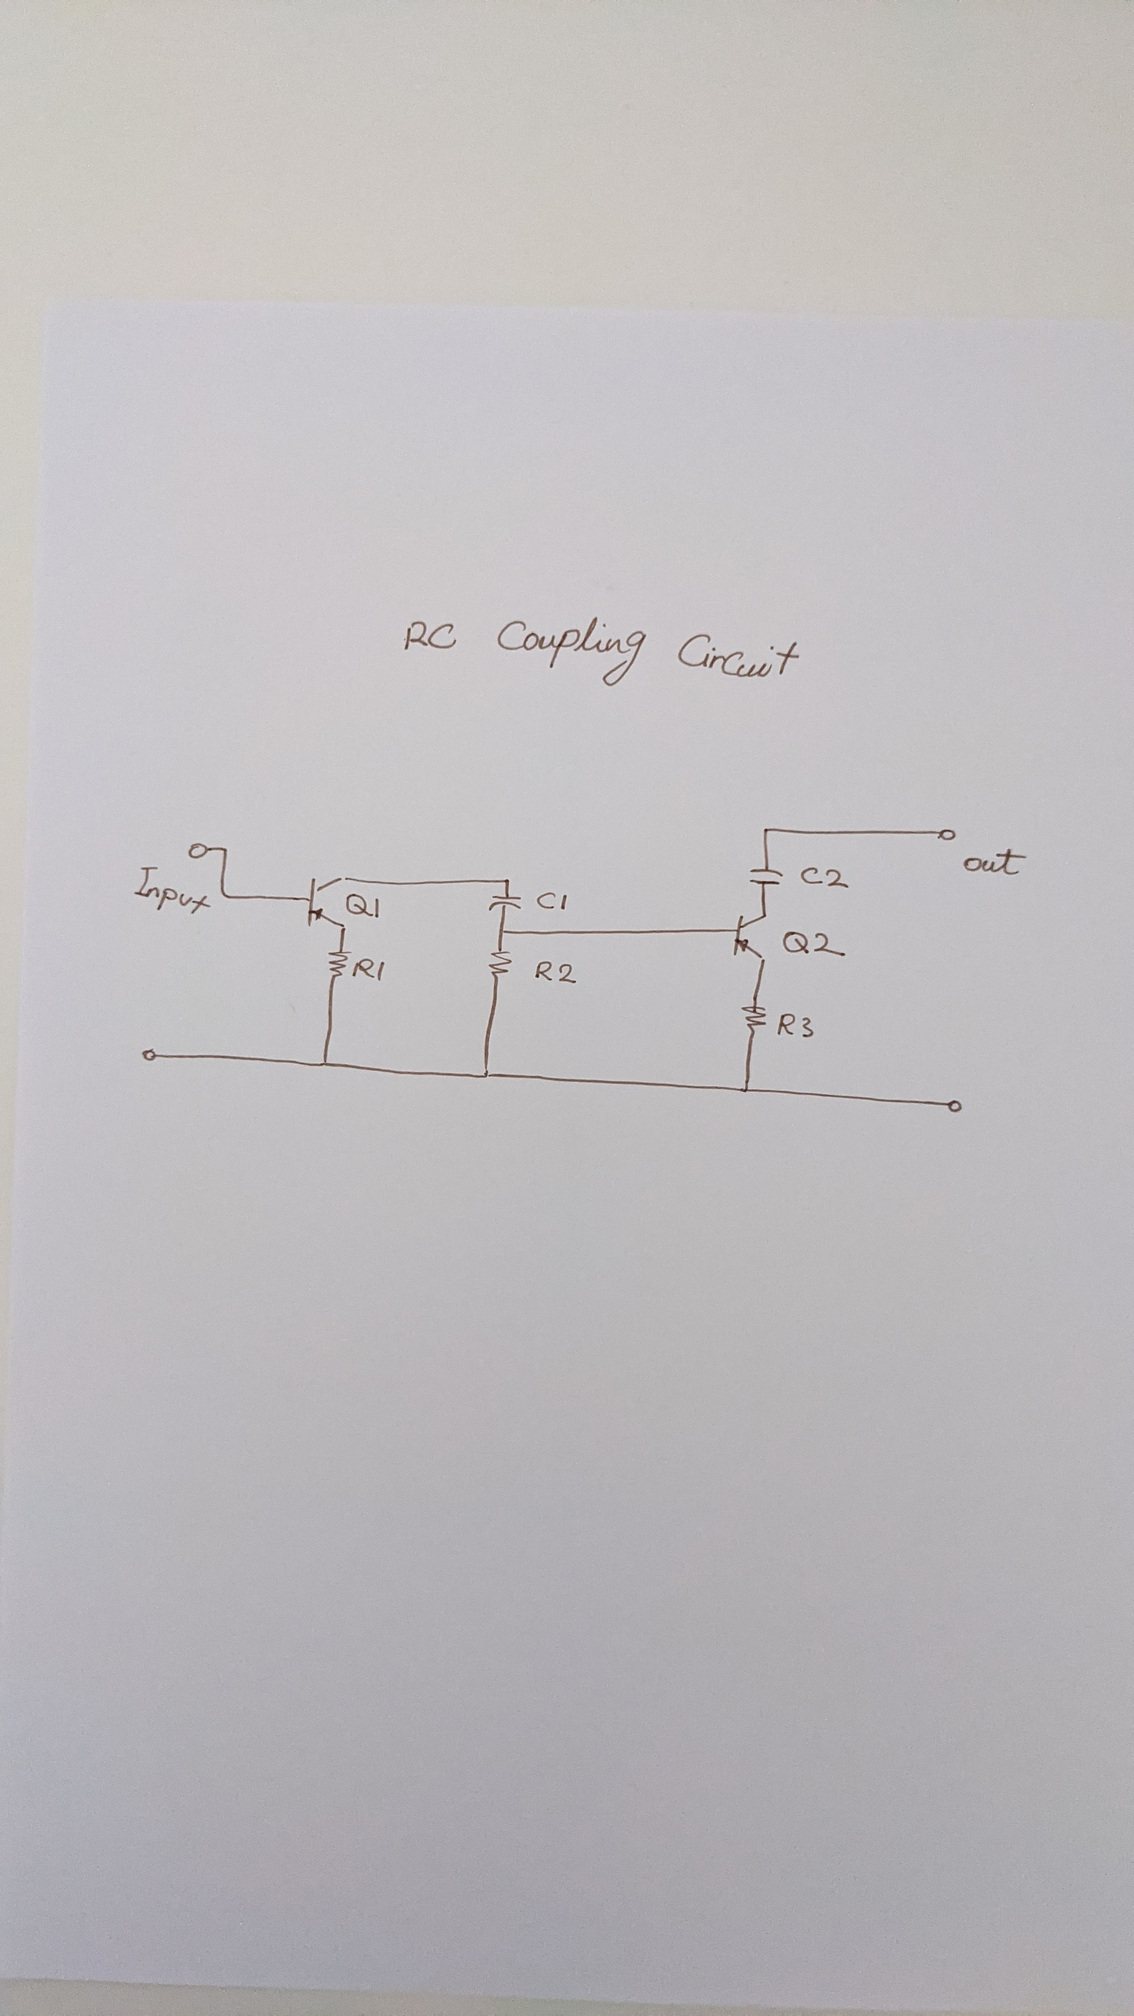capacitor.unpolarized: (746, 865, 786, 889), (487, 893, 526, 912)
junction: (738, 1081, 755, 1097), (480, 1063, 493, 1080), (320, 1056, 332, 1072), (496, 925, 510, 937), (217, 888, 230, 901), (220, 845, 231, 856), (762, 824, 771, 835), (501, 876, 512, 886)
resistor: (739, 1002, 768, 1040), (487, 947, 514, 983), (325, 948, 352, 979)
terminal: (186, 840, 210, 860), (944, 1097, 964, 1115), (140, 1047, 161, 1063), (936, 827, 958, 840)
text: (402, 611, 800, 688), (132, 864, 213, 917), (961, 845, 1029, 878), (781, 929, 847, 958), (799, 864, 852, 890), (775, 1011, 816, 1040), (534, 960, 577, 986), (343, 892, 382, 919), (352, 955, 388, 982), (534, 890, 569, 912)
transistor: (305, 872, 350, 932), (731, 912, 773, 964)
